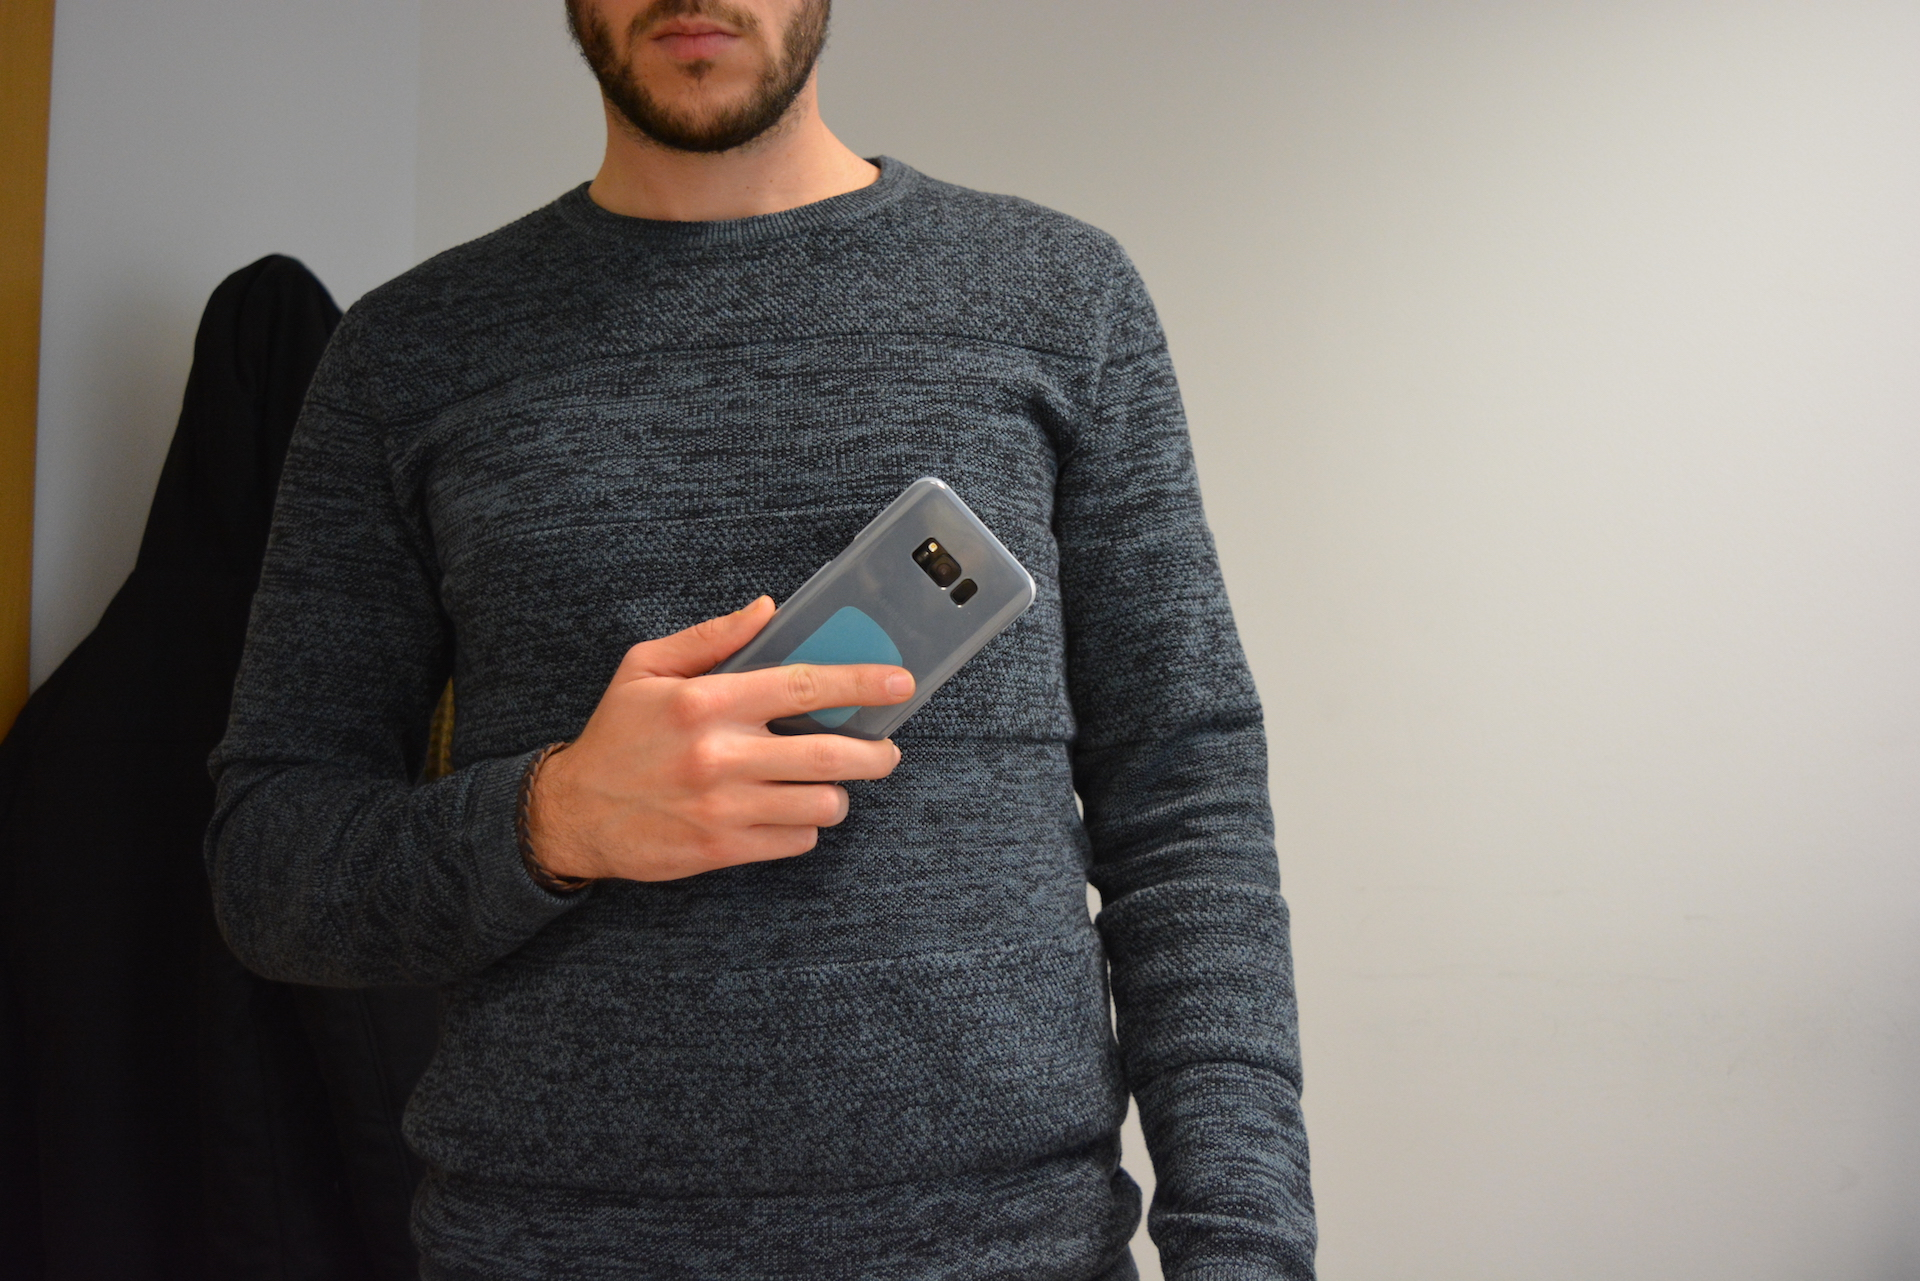smartphone: (695, 475, 1039, 788)
